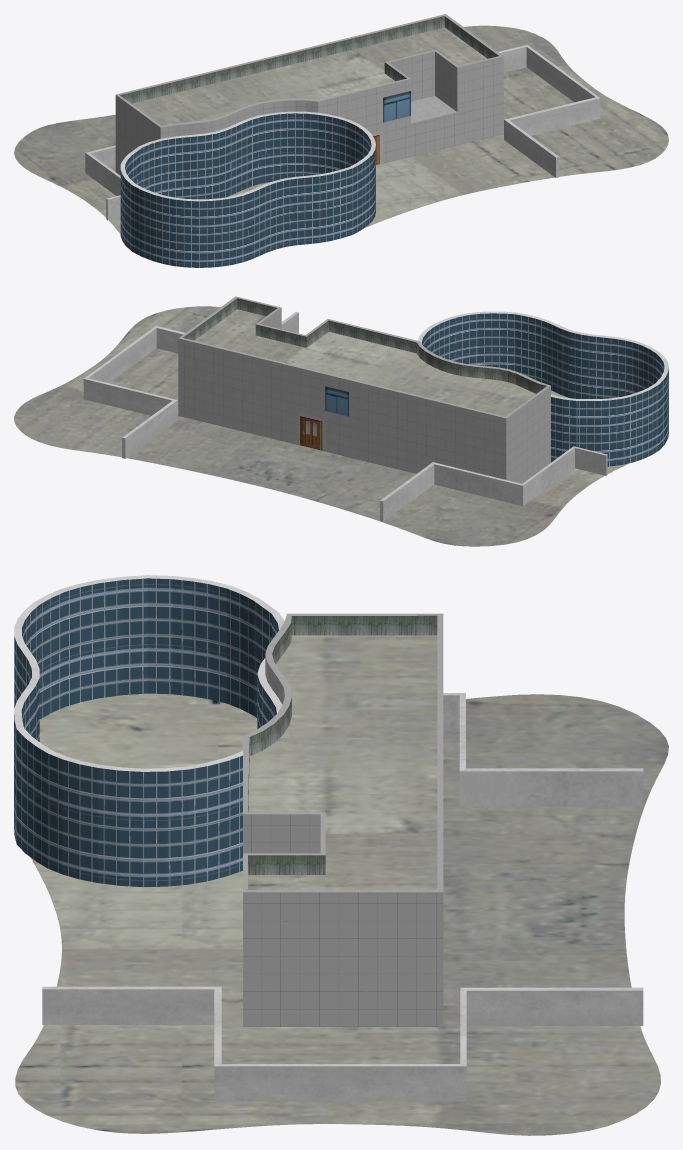
3 renders of one model, top to bottom at view 1: azimuth 30°, elevation 25°; view 2: azimuth 150°, elevation 25°; view 3: azimuth 270°, elevation 25°, orthographic. The views are drawn at different scales.
Visible parts, largest first — view 1: 20c; view 2: 20c; view 3: 20c.
Boxes of the visible parts, x1=… form: 20c: x1=14, y1=14, x2=668, y2=267; 20c: x1=14, y1=296, x2=668, y2=546; 20c: x1=14, y1=575, x2=668, y2=1135.
Bounding box in the file's own units: 54.18 × 7.64 × 33.66.
12 materials, 12 textured.
